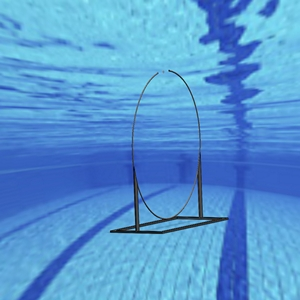circle: (109, 68, 229, 234)
